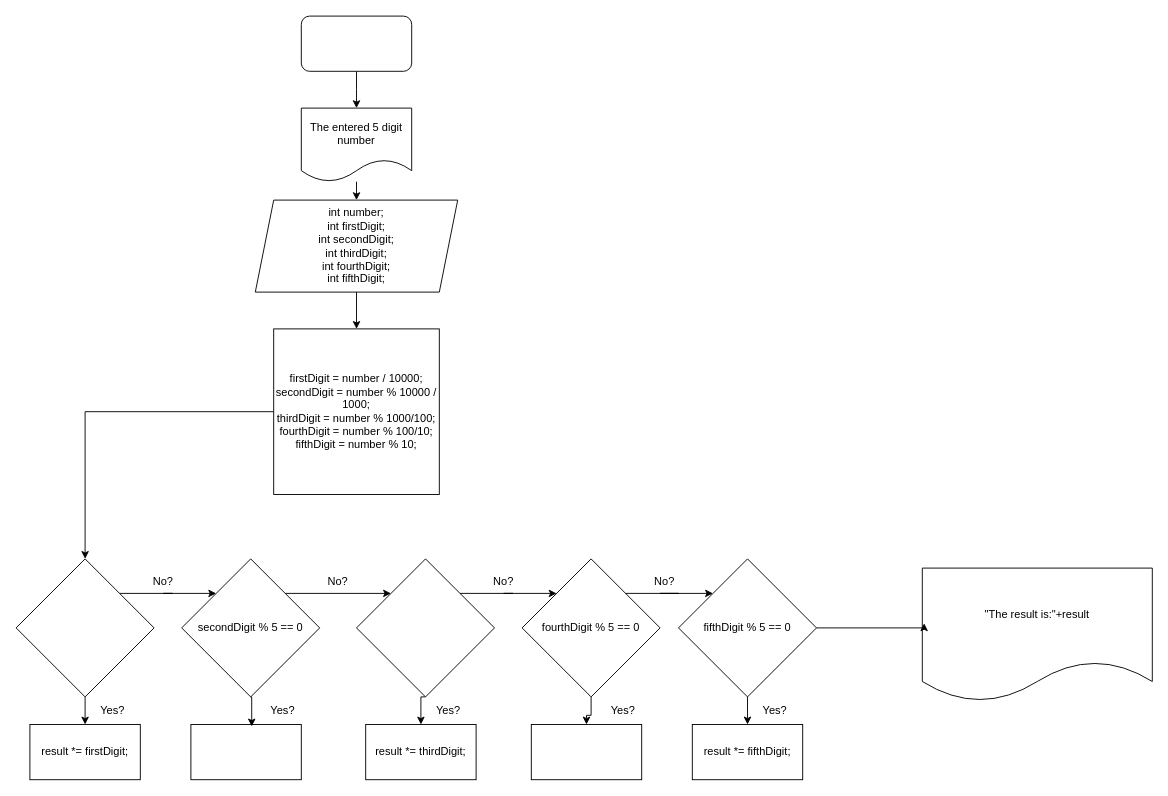
Some shapes in this 1168 by 796 pixel diagram are drawn without their labels. Here are the shapes that lost their labels. From the top down, the box of each, then its label:
(300, 15, 412, 71): Start
(15, 558, 154, 697): firstDigit % 5 == 0
(356, 558, 494, 697): thirdDigit % 5 == 0
(190, 724, 301, 780): result *= secondDigit;
(530, 724, 642, 780): result *= fourthDigit;
